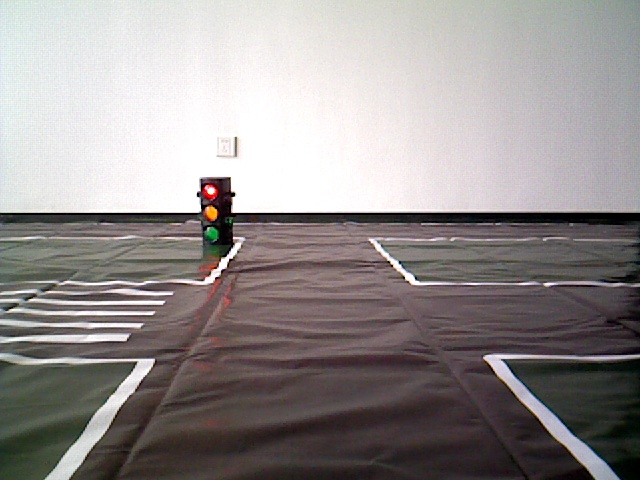red: (201, 180, 227, 244)
